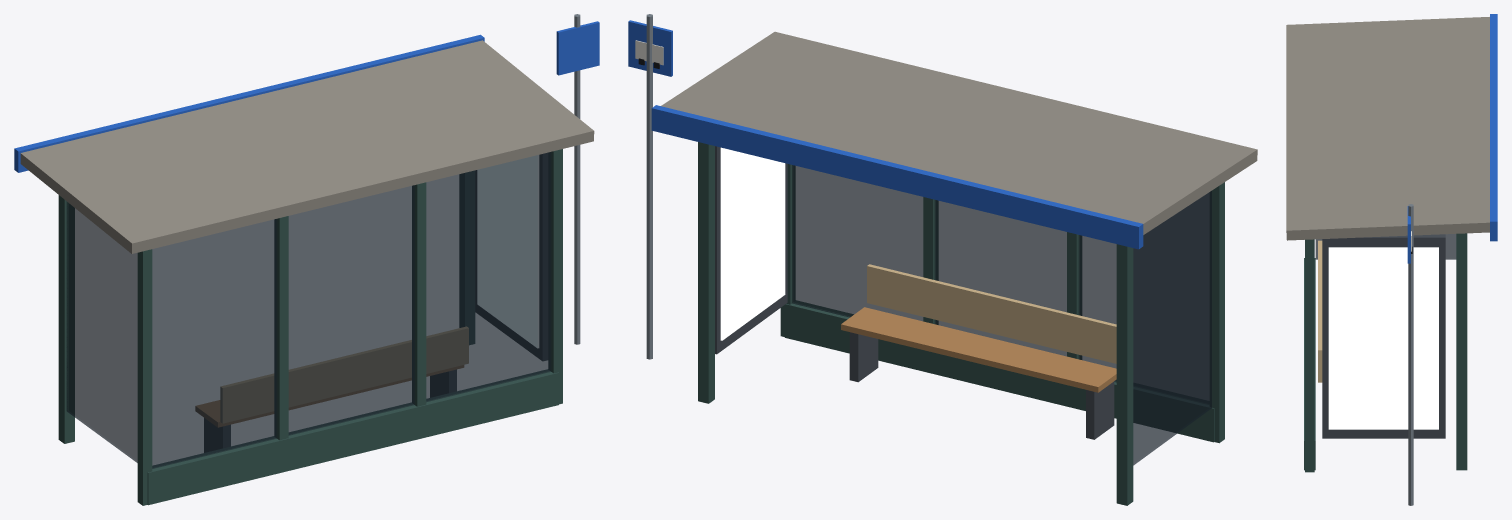
The model's file is bus_stop.glb.
The picture shows the model from 3 angles, left to right: view 1: azimuth 30°, elevation 25°; view 2: azimuth 150°, elevation 25°; view 3: azimuth 270°, elevation 25°; orthographic projection. The views are drawn at different scales.
Visible parts, largest first — view 1: Body; view 2: Body; view 3: Body.
Part boxes in pixels (bbox=[...]): Body: bbox=[14, 14, 599, 505]; Body: bbox=[628, 14, 1257, 505]; Body: bbox=[1286, 14, 1497, 505].
Bounding box in the file's own units: 5.22 × 3.05 × 1.95.
